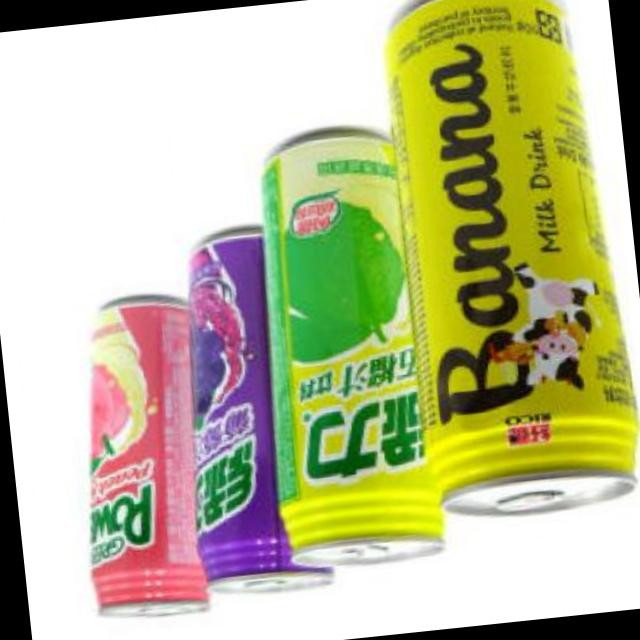metal: (389, 0, 640, 518), (263, 133, 445, 567), (190, 229, 332, 593)
